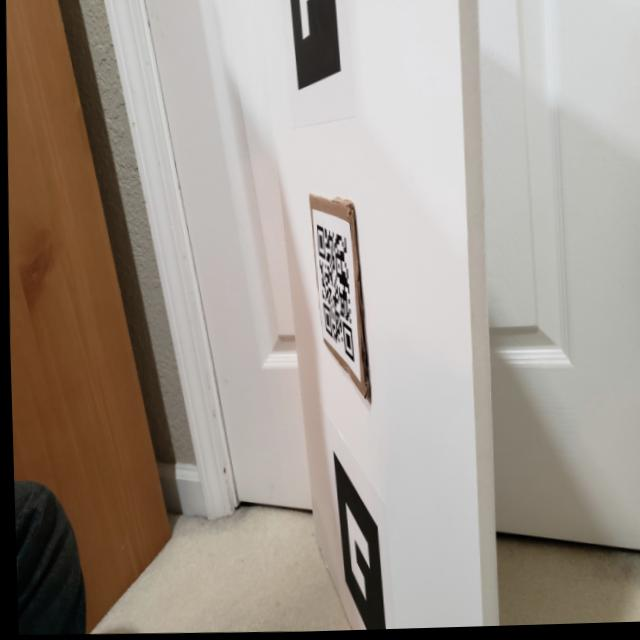QR_CODE: (307, 218, 369, 374)
